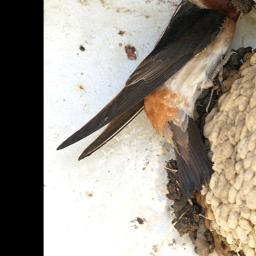Swallow: (54, 0, 255, 164)
